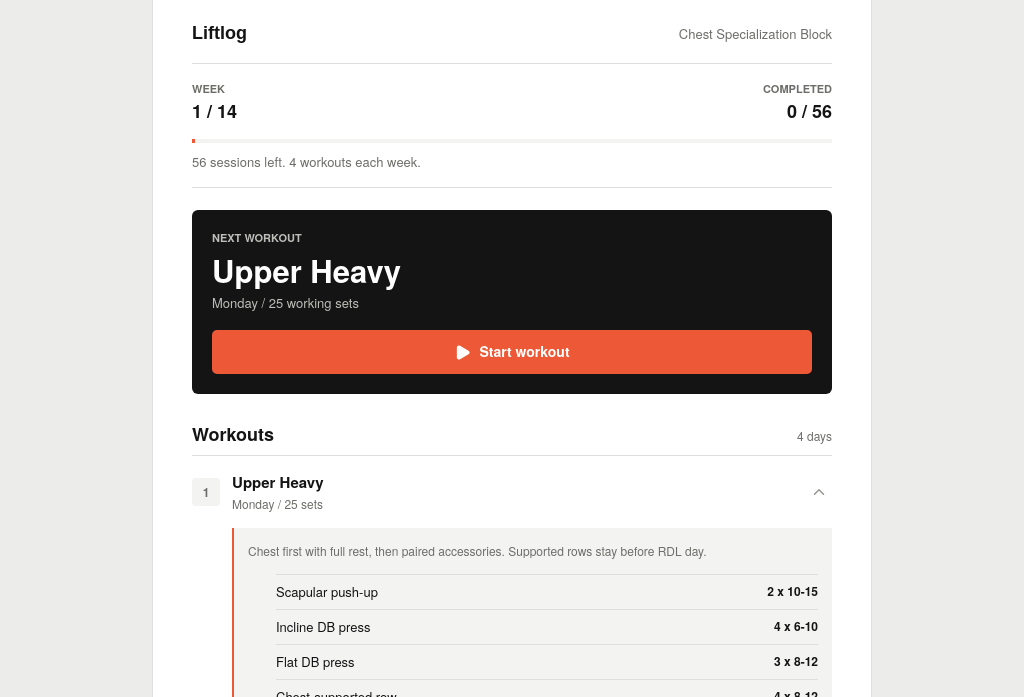
Scenario: App › keeps the active workout open when finishing cannot be saved
Step 1. Click the button "Start workout" → (512, 352), box [212, 330, 812, 374]
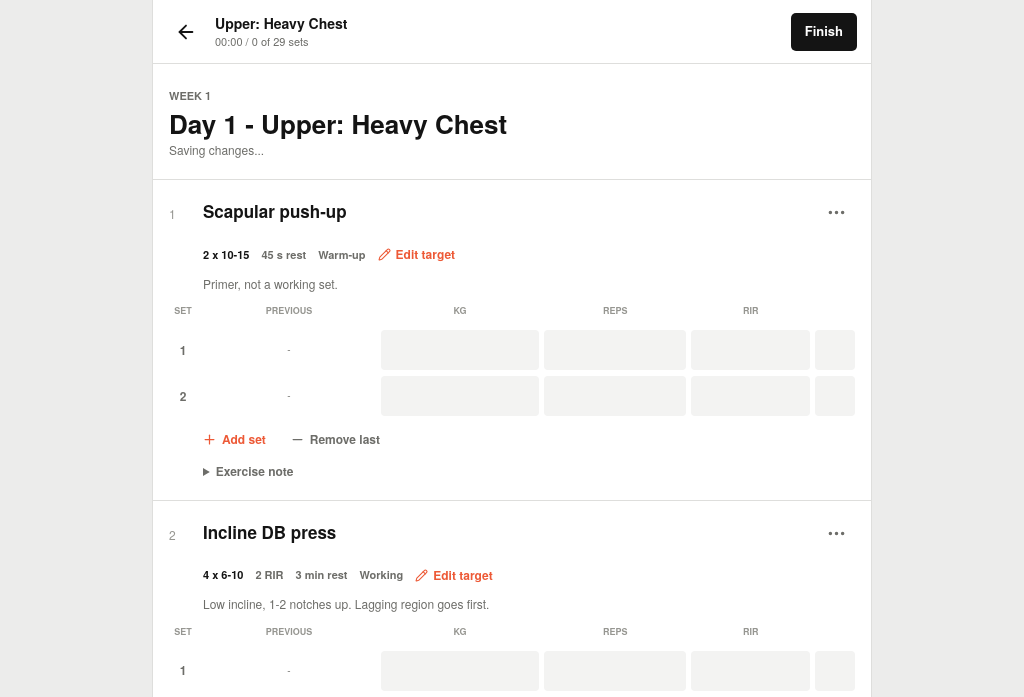
Result: the heading "Day 1 - Upper: Heavy Chest" is shown at [169, 105, 507, 142]
Step 2. Click the button "Finish" → (824, 32), box [791, 12, 857, 50]
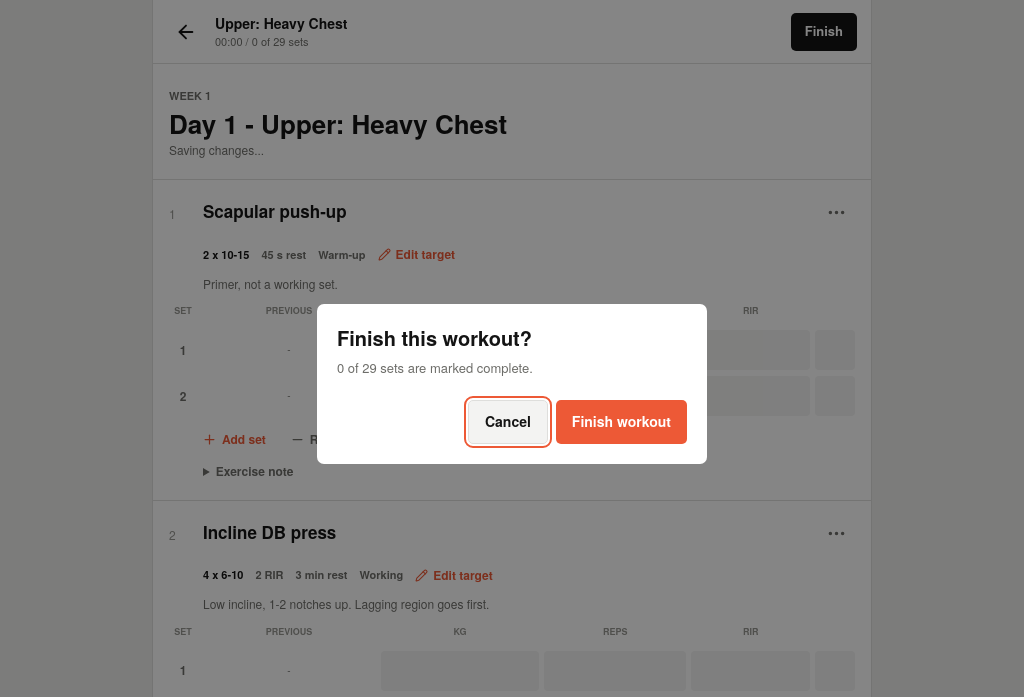
Step 3. Click the button "Finish workout" → (621, 422), box [556, 400, 687, 444]
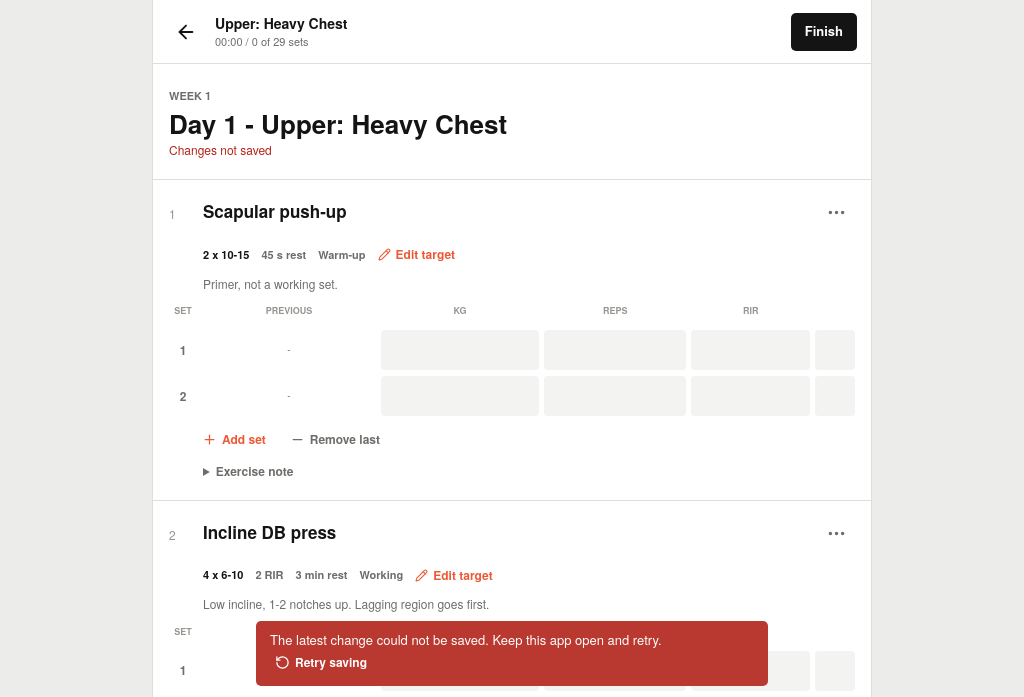
Expected: the button "History" is not shown
Result: the heading "Day 1 - Upper: Heavy Chest" is shown at [169, 105, 507, 142]
Result: the message shows "could not be saved" at [270, 630, 662, 649]
